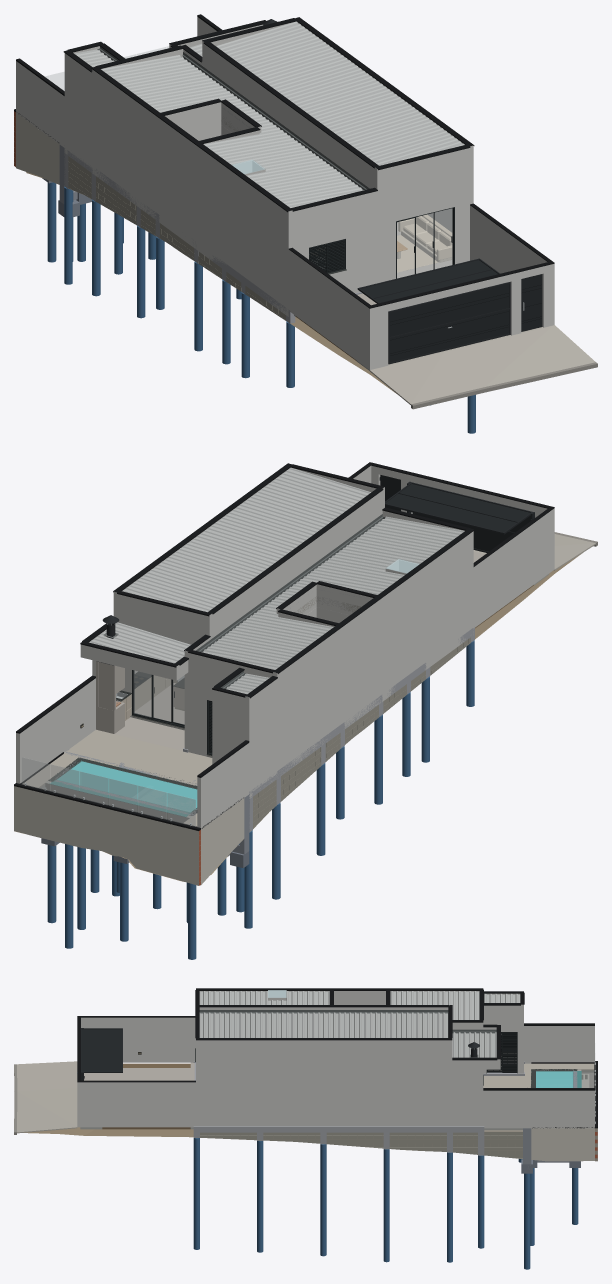
The model's file is house.glb.
3 renders of one model, top to bottom at view 1: azimuth 30°, elevation 25°; view 2: azimuth 150°, elevation 25°; view 3: azimuth 270°, elevation 25°, orthographic. The views are drawn at different scales.
Size of the model in its own units: 7.65 by 12.26 by 28.04.
48 materials, 3 textured.
